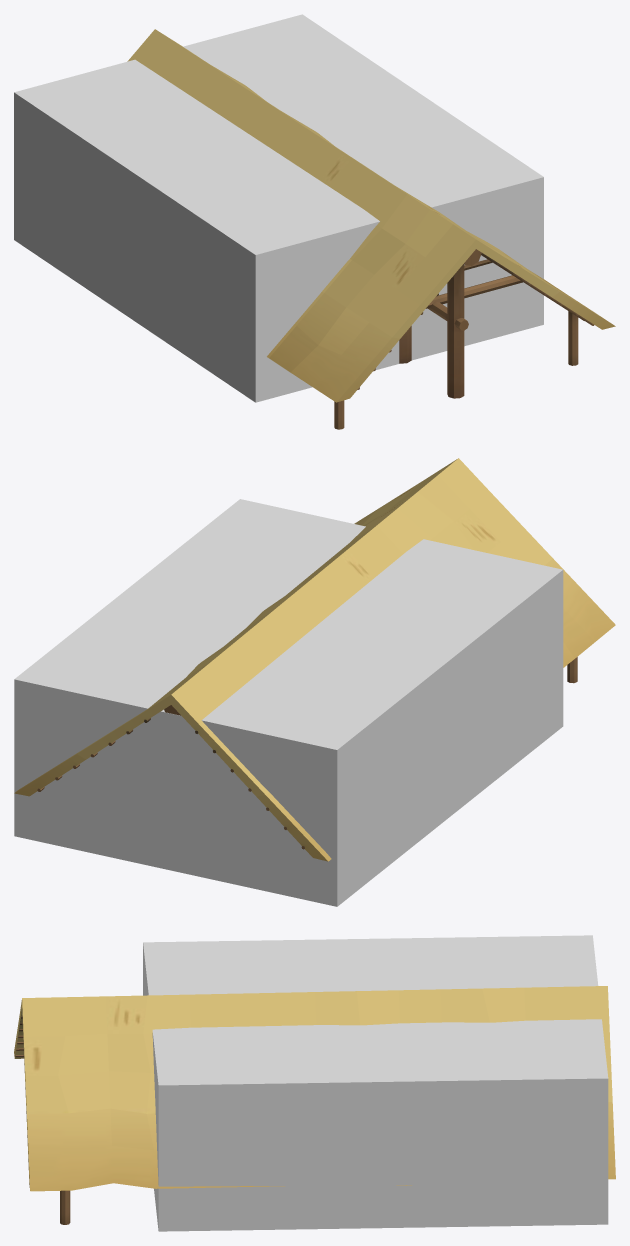
Rendered from House2.gltf.
The picture shows the model from 3 angles, top to bottom: view 1: azimuth 30°, elevation 25°; view 2: azimuth 150°, elevation 25°; view 3: azimuth 270°, elevation 25°; orthographic projection. The views are drawn at different scales.
Visible parts, largest first — view 1: boxhouse.002, House.003; view 2: boxhouse.002, House.003; view 3: boxhouse.002, House.003.
Boxes of the visible parts, left/top/right/bottom form: boxhouse.002: left=14, top=14, right=543, bottom=402; House.003: left=127, top=29, right=615, bottom=429; boxhouse.002: left=14, top=499, right=563, bottom=906; House.003: left=14, top=458, right=615, bottom=861; boxhouse.002: left=143, top=935, right=608, bottom=1231; House.003: left=14, top=986, right=615, bottom=1224.
Size of the model in its own units: 10.99 by 5.59 by 18.21.
Materials: 1 (1 with a texture image).
